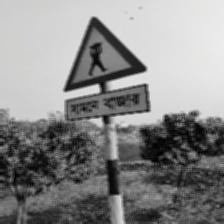Market-in-front: (63, 16, 150, 122)
